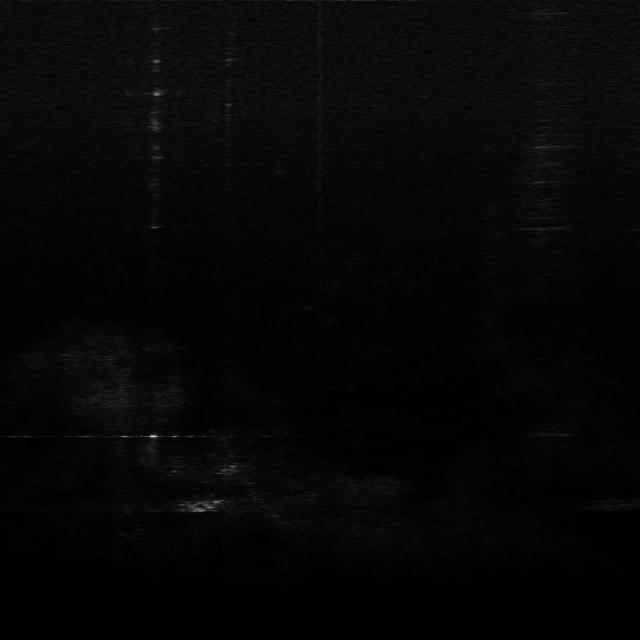rov: (177, 497, 227, 516)
